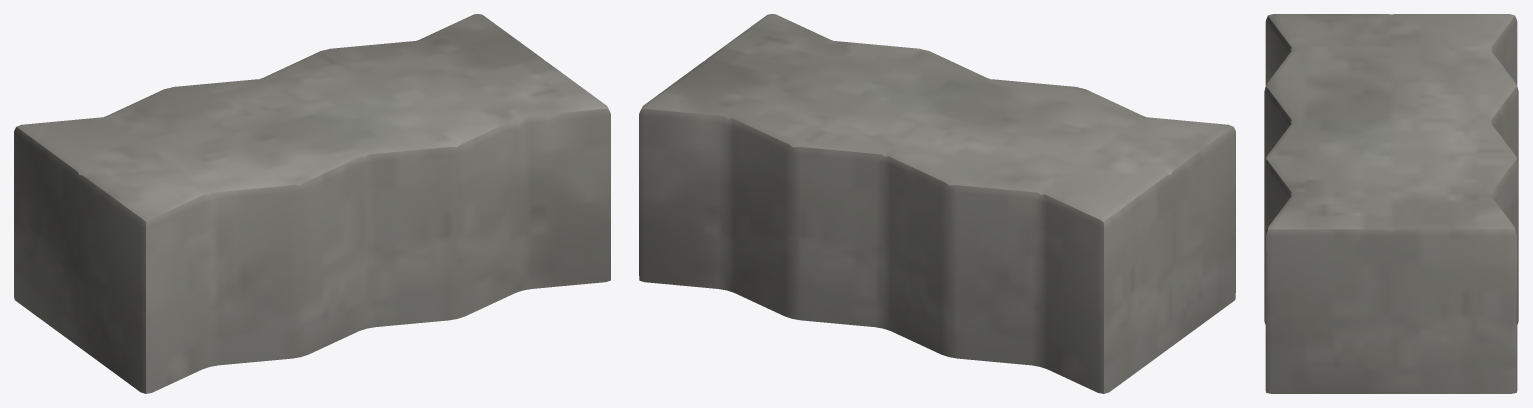
The model's file is PAV-BLQ-001_lod1.glb.
3 renders of one model, left to right at view 1: azimuth 30°, elevation 25°; view 2: azimuth 150°, elevation 25°; view 3: azimuth 270°, elevation 25°, orthographic. The views are drawn at different scales.
Parts seen in each view (by area): view 1: PAV-BLQ-001_peca; view 2: PAV-BLQ-001_peca; view 3: PAV-BLQ-001_peca.
Part boxes in pixels (box(x1,y1,x2,y2)): PAV-BLQ-001_peca: box(14, 14, 610, 393); PAV-BLQ-001_peca: box(639, 14, 1235, 393); PAV-BLQ-001_peca: box(1264, 14, 1518, 393).
Bounding box in the file's own units: 0.225 × 0.08 × 0.1111.
Materials: 1 (1 with a texture image).
